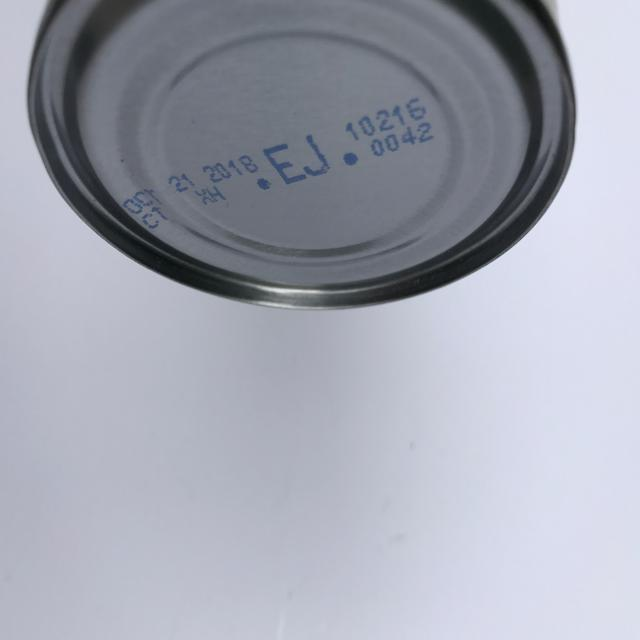metal: (26, 0, 577, 311)
